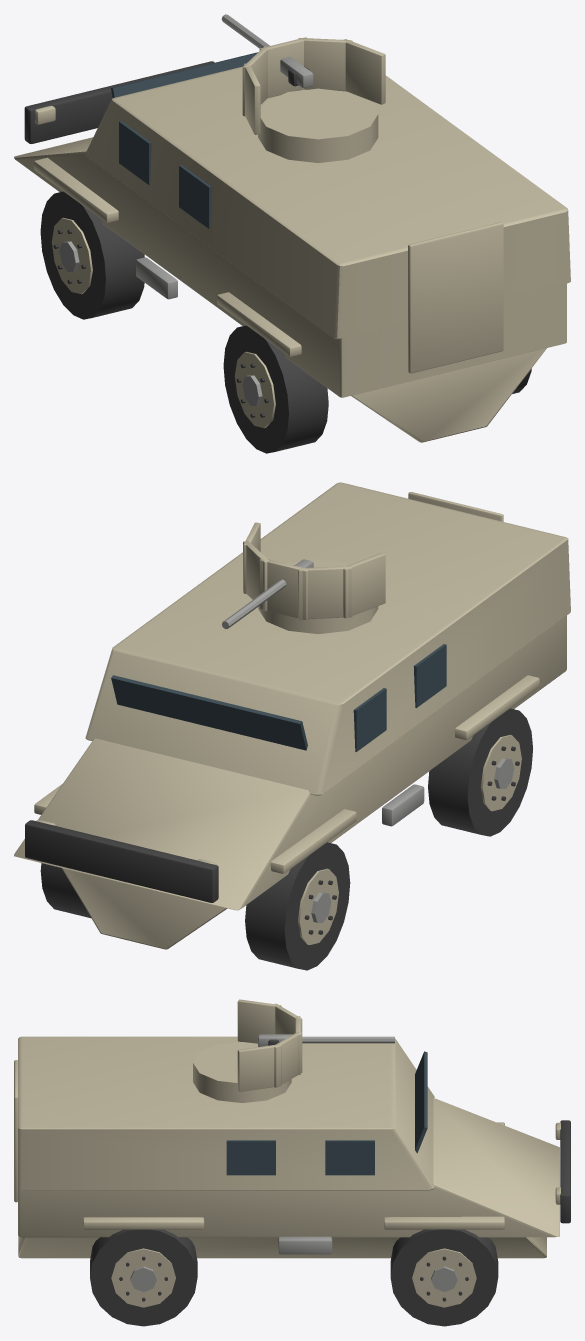
File: usa_mrap_rg33.glb
3 views of the same model, one above another, from view 1: azimuth 30°, elevation 25°; view 2: azimuth 150°, elevation 25°; view 3: azimuth 270°, elevation 25° (orthographic). The views are drawn at different scales.
Visible parts, largest first — view 1: body, turret, wheel_2, wheel_0, barrel; view 2: body, turret, wheel_2, wheel_0, wheel_1, barrel; view 3: body, wheel_1, wheel_3, turret, barrel.
Boxes of the visible parts, bbox=[...] form: body: bbox=[14, 52, 570, 442]; turret: bbox=[242, 37, 385, 162]; wheel_2: bbox=[223, 325, 328, 453]; wheel_0: bbox=[40, 191, 144, 319]; barrel: bbox=[221, 14, 313, 88]; body: bbox=[14, 482, 570, 949]; turret: bbox=[243, 522, 385, 634]; wheel_2: bbox=[428, 708, 532, 836]; wheel_0: bbox=[245, 842, 350, 970]; wheel_1: bbox=[40, 863, 90, 918]; barrel: bbox=[222, 559, 313, 629]; body: bbox=[14, 1036, 570, 1258]; wheel_1: bbox=[390, 1229, 498, 1326]; wheel_3: bbox=[90, 1229, 197, 1326]; turret: bbox=[193, 999, 302, 1102]; barrel: bbox=[258, 1034, 394, 1046].
Size of the model in its own units: 2.72 by 3.1 by 6.2.
